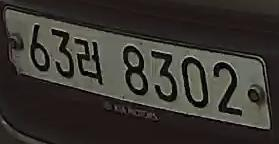0: (180, 54, 210, 110)
2: (210, 57, 246, 118)
3: (150, 46, 180, 105), (51, 27, 75, 80)
6: (24, 20, 52, 74)
8: (116, 43, 151, 96)
러: (74, 33, 108, 89)
